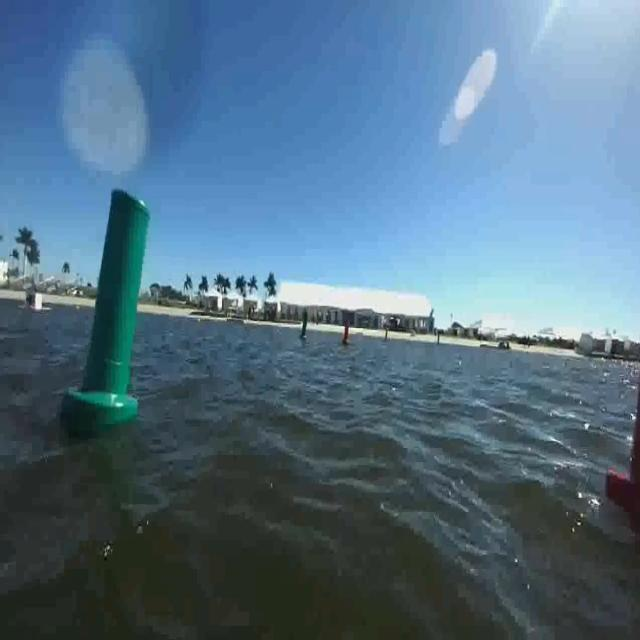green-column-buoy: (68, 192, 153, 434), (300, 309, 311, 340)
red-column-buoy: (607, 326, 640, 516), (343, 320, 352, 346)
